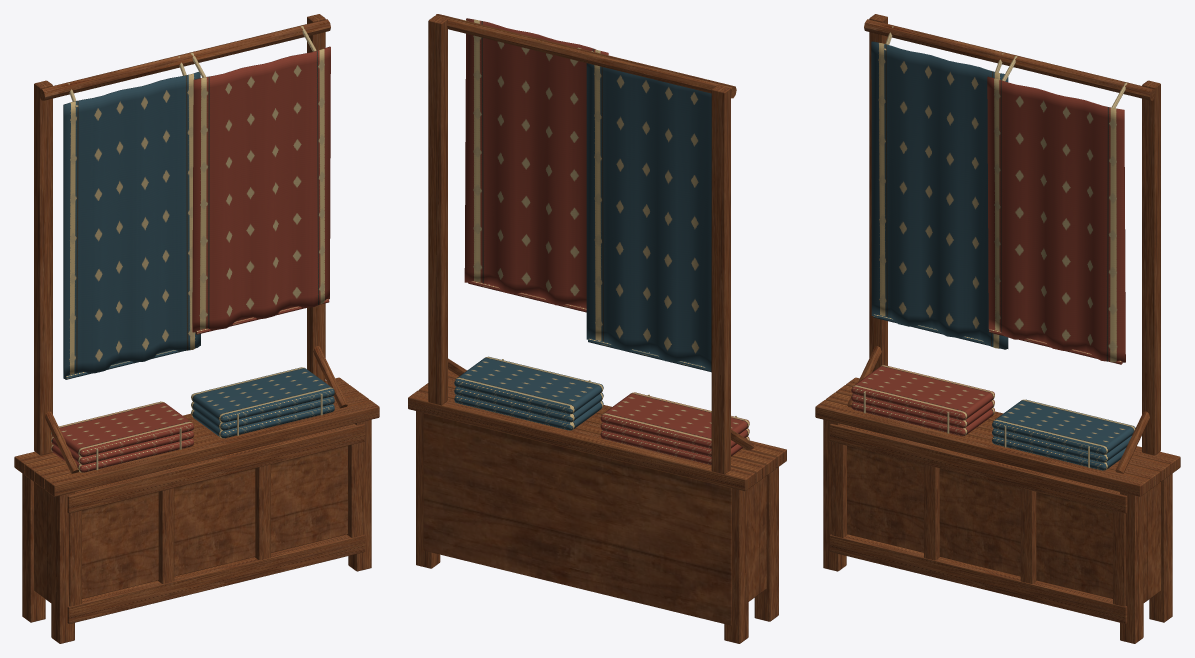
The model's file is rug-gallery.glb.
3 views of the same model, side by side, from view 1: azimuth 30°, elevation 25°; view 2: azimuth 150°, elevation 25°; view 3: azimuth 330°, elevation 25° (orthographic). The views are drawn at different scales.
Parts seen in each view (by area): view 1: rug-gallery; view 2: rug-gallery; view 3: rug-gallery.
Part boxes in pixels (x1,y1,x2,y2): rug-gallery: [14, 14, 379, 643]; rug-gallery: [408, 14, 786, 643]; rug-gallery: [815, 14, 1180, 643].
Bounding box in the file's own units: 1.48 × 2.3 × 0.32.
Materials: 1 (1 with a texture image).
